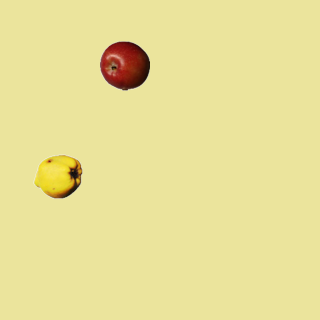Apple Braeburn: (99, 40, 149, 90)
Quince: (32, 151, 82, 201)
